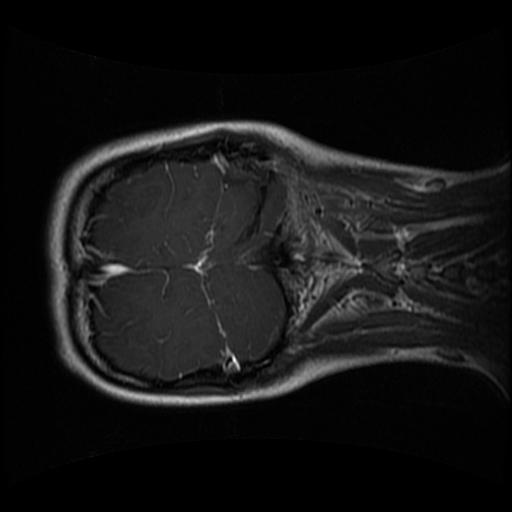glioma: (103, 182, 164, 234)
